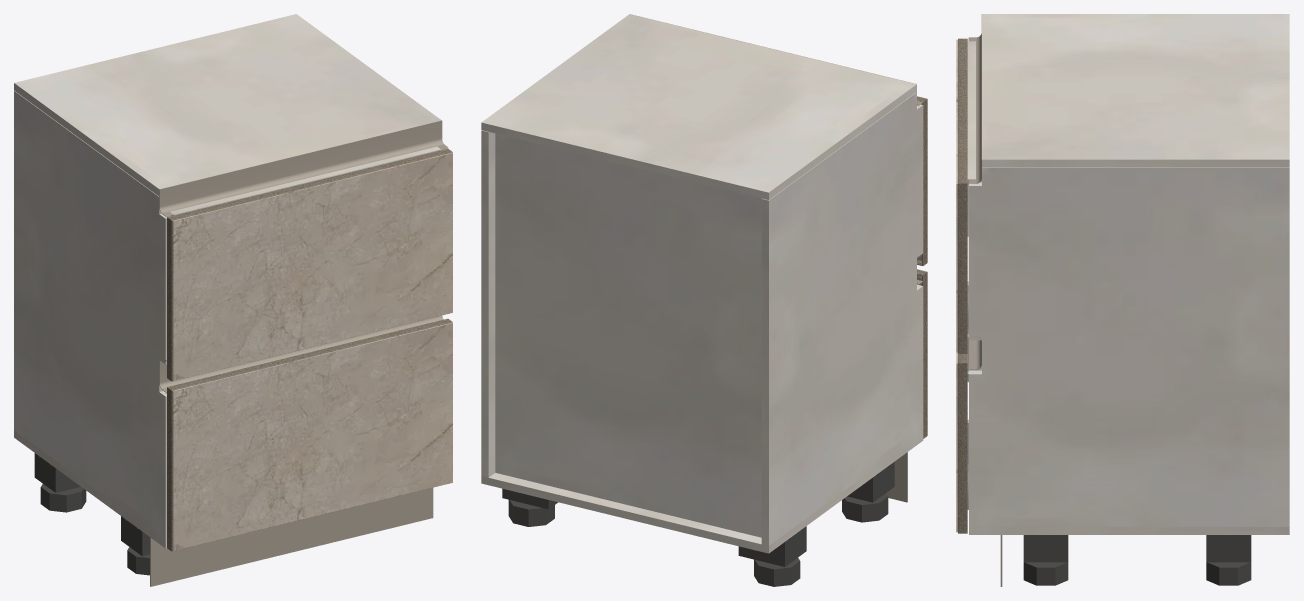
The model's file is BASE CABINET 1 BUILT IN LB 1 LB DRAWER 1 HB DRAWER (H720xW600xD560) BC1BL1EL1EH.glb.
3 views of the same model, side by side, from view 1: azimuth 30°, elevation 25°; view 2: azimuth 150°, elevation 25°; view 3: azimuth 270°, elevation 25° (orthographic). The views are drawn at different scales.
Size of what is drawn, in the model's own units: 0.6 by 0.82 by 0.58.
7 materials, 3 textured.
